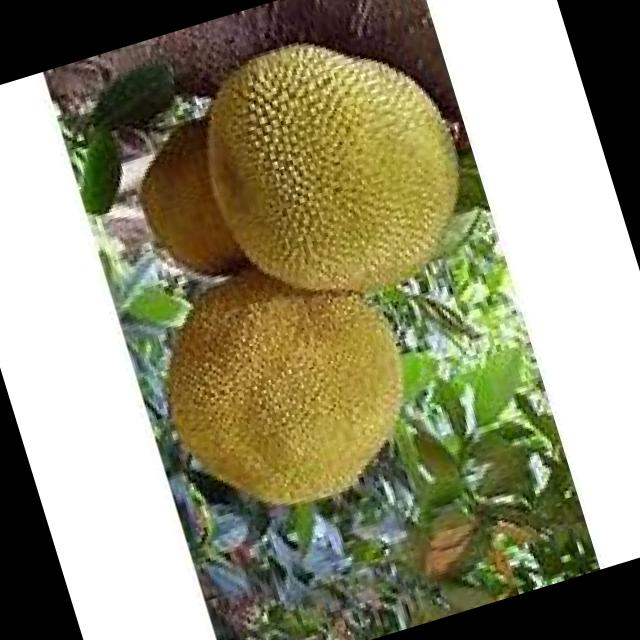Fruit: (159, 0, 504, 346), (114, 216, 454, 558)
